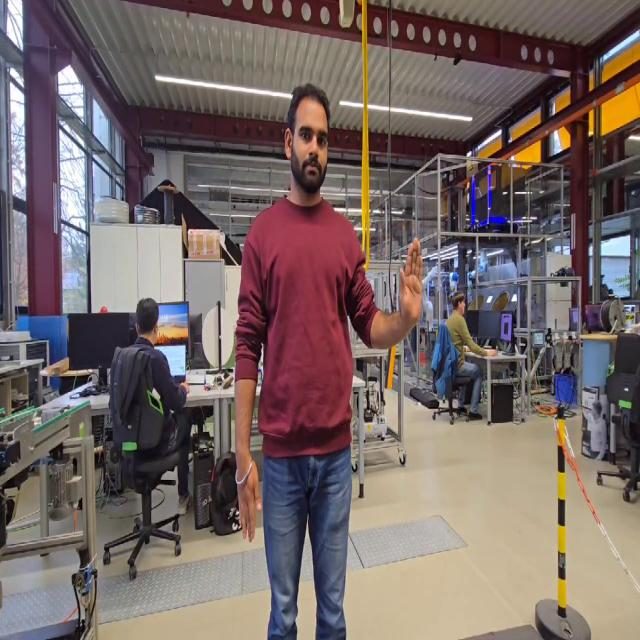open_palm: (395, 234, 427, 338)
